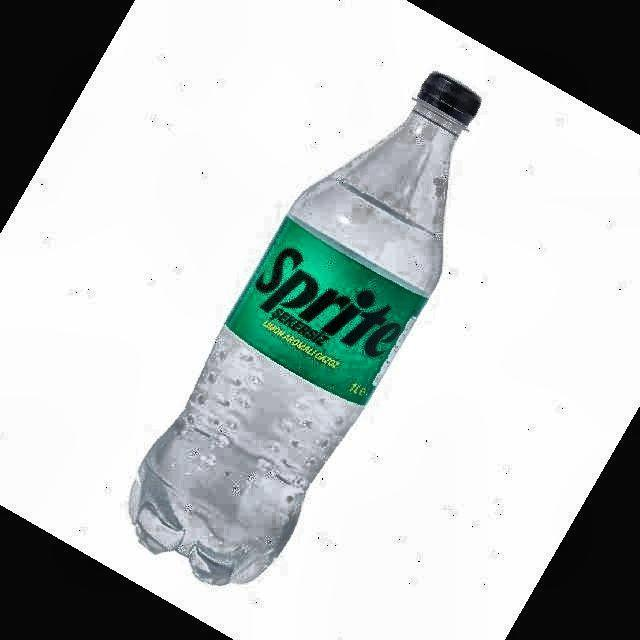plastic: (129, 72, 480, 584)
